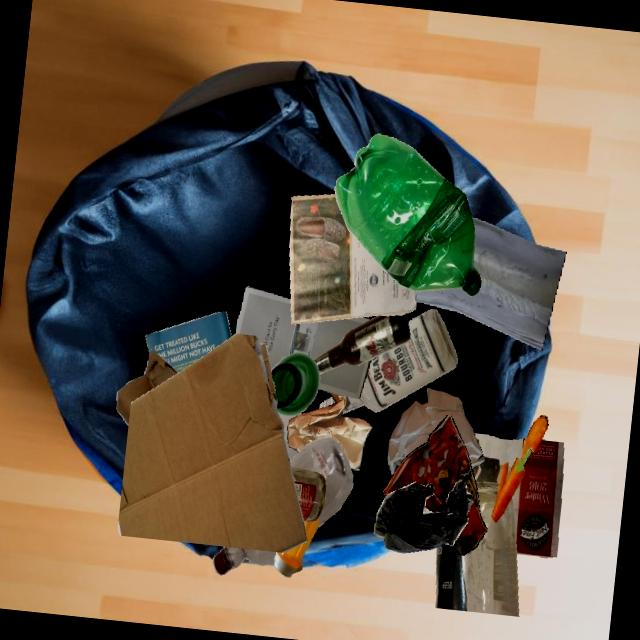biowaste: (491, 415, 548, 522)
cardboard: (117, 333, 307, 552), (115, 349, 178, 426)
glass: (415, 217, 566, 350), (341, 309, 457, 414), (435, 482, 518, 617), (313, 313, 409, 374), (270, 352, 319, 416), (290, 467, 325, 522)
paper: (289, 194, 415, 324), (235, 286, 370, 370), (386, 387, 484, 474), (287, 391, 372, 470), (512, 439, 563, 557), (145, 311, 231, 372), (318, 359, 371, 398), (277, 412, 301, 461)
plastic: (334, 133, 481, 296), (373, 478, 472, 553), (289, 437, 353, 527), (274, 517, 318, 577), (212, 546, 276, 574)
trash: (382, 415, 487, 555)
